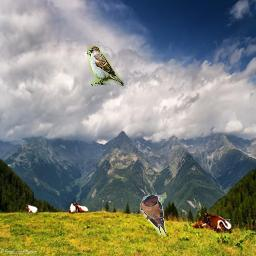Sparrow: (87, 46, 124, 86)
Swallow: (140, 195, 166, 235)
